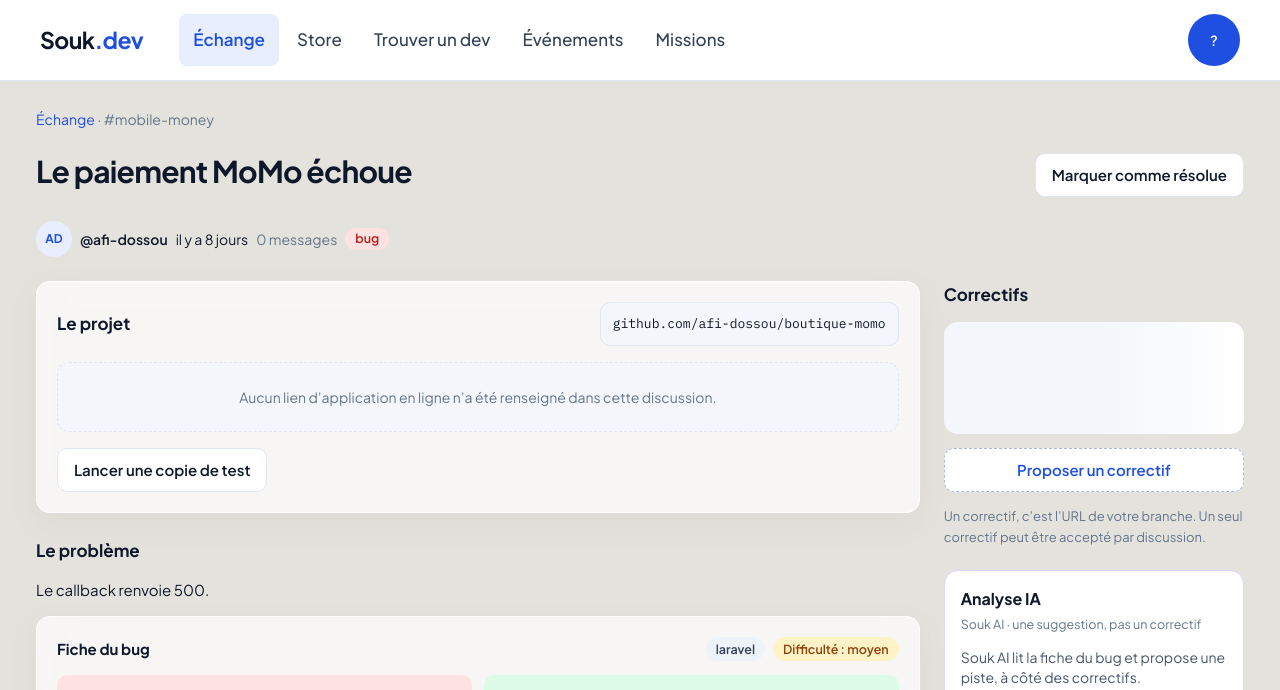
it: page d’une discussion › montre le bouton résolue à l’auteur et envoie le PATCH
The width and height of the screenshot is (1280, 690).
Click the button "Marquer comme résolue": click(1139, 175) [1035,153,1244,197]
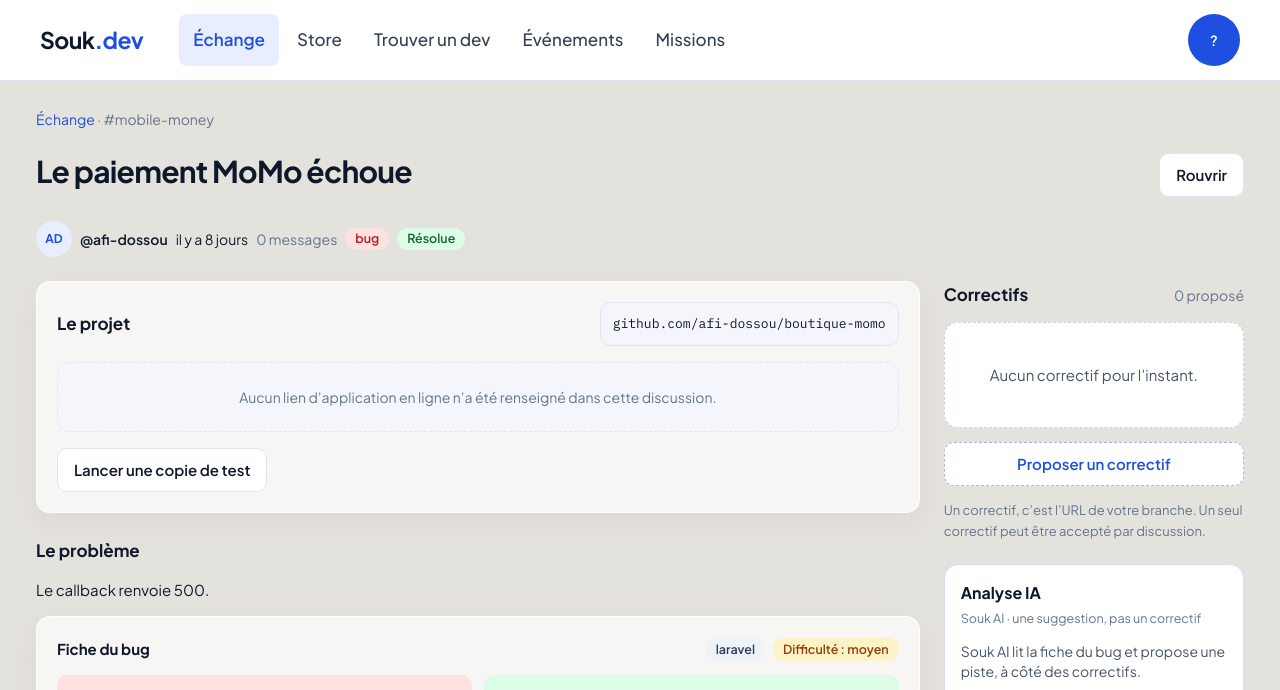
Result: the button "Rouvrir" is shown at [1159,153,1244,197]
